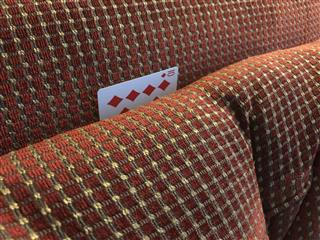TenOfDiamonds: (96, 65, 179, 120)
